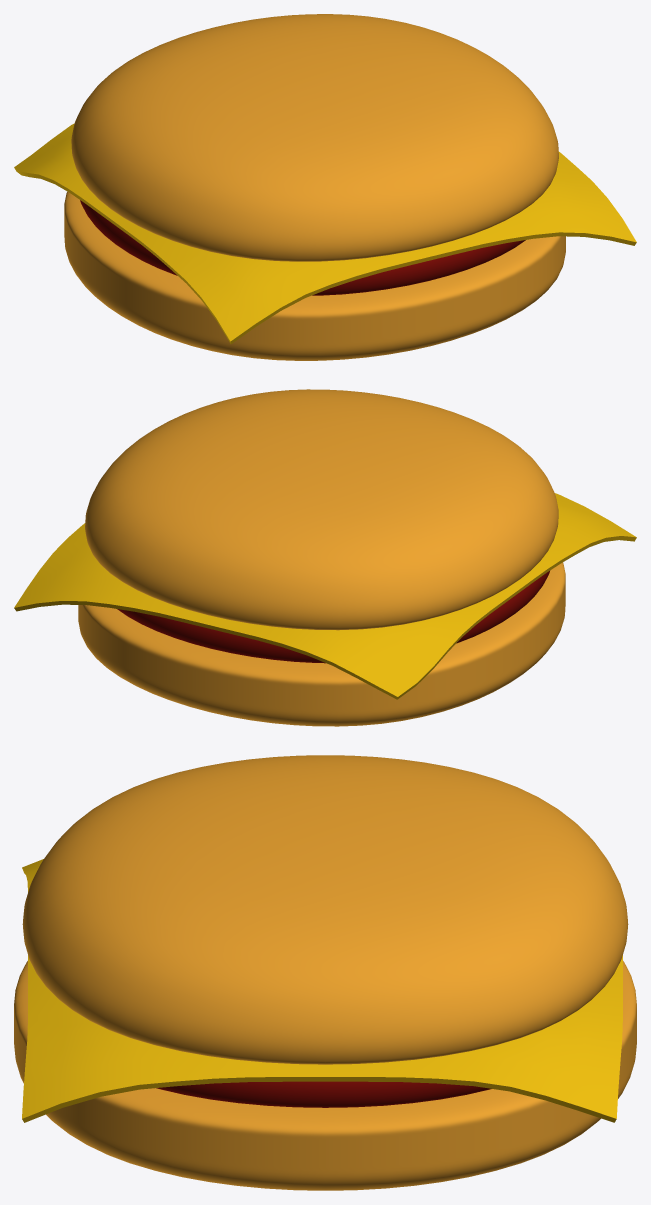
File: hamburger.glb
The picture shows the model from 3 angles, top to bottom: view 1: azimuth 30°, elevation 25°; view 2: azimuth 150°, elevation 25°; view 3: azimuth 270°, elevation 25°; orthographic projection. The views are drawn at different scales.
Visible parts, largest first — view 1: Cube.002, Cube, Plane, Cube.001; view 2: Cube.002, Cube, Plane, Cube.001; view 3: Cube.002, Cube, Plane, Cube.001.
Boxes of the visible parts, bbox=[...] form: Cube.002: bbox=[71, 14, 558, 261]; Cube: bbox=[64, 191, 565, 360]; Plane: bbox=[14, 123, 636, 343]; Cube.001: bbox=[80, 200, 525, 295]; Cube.002: bbox=[85, 389, 558, 630]; Cube: bbox=[78, 562, 565, 726]; Plane: bbox=[14, 493, 636, 699]; Cube.001: bbox=[117, 571, 549, 663]; Cube.002: bbox=[22, 755, 628, 1064]; Cube: bbox=[14, 961, 636, 1190]; Plane: bbox=[22, 859, 622, 1122]; Cube.001: bbox=[156, 1081, 491, 1107].
Size of the model in its own units: 9.16 by 4.23 by 9.16.
